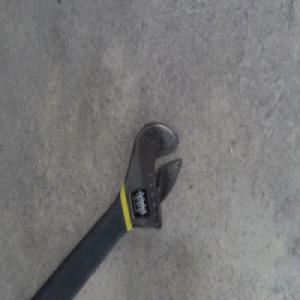AdjustableWrench: (32, 121, 183, 299)
